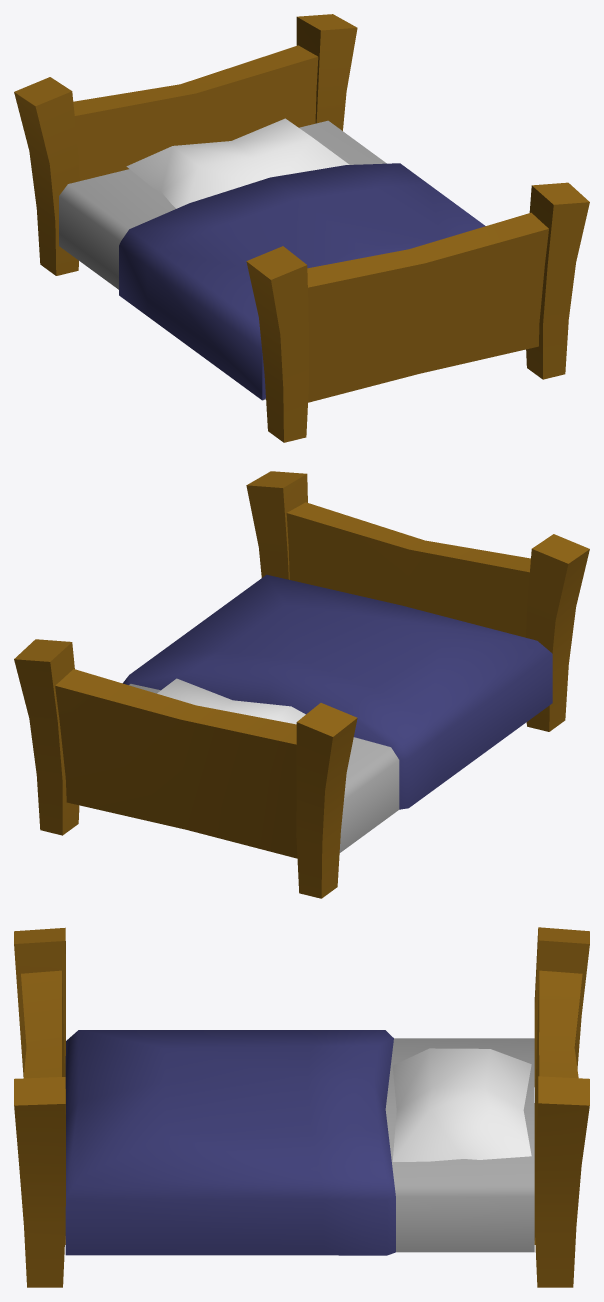
File: bed.fbx
3 views of the same model, one above another, from view 1: azimuth 30°, elevation 25°; view 2: azimuth 150°, elevation 25°; view 3: azimuth 270°, elevation 25° (orthographic). The views are drawn at different scales.
Parts seen in each view (by area): view 1: Bed; view 2: Bed; view 3: Bed.
Boxes of the visible parts, <box> form: Bed: <box>14,14,589,442</box>; Bed: <box>14,471,589,898</box>; Bed: <box>14,927,589,1287</box>.
Bounding box in the file's own units: 234 × 125 × 323.
